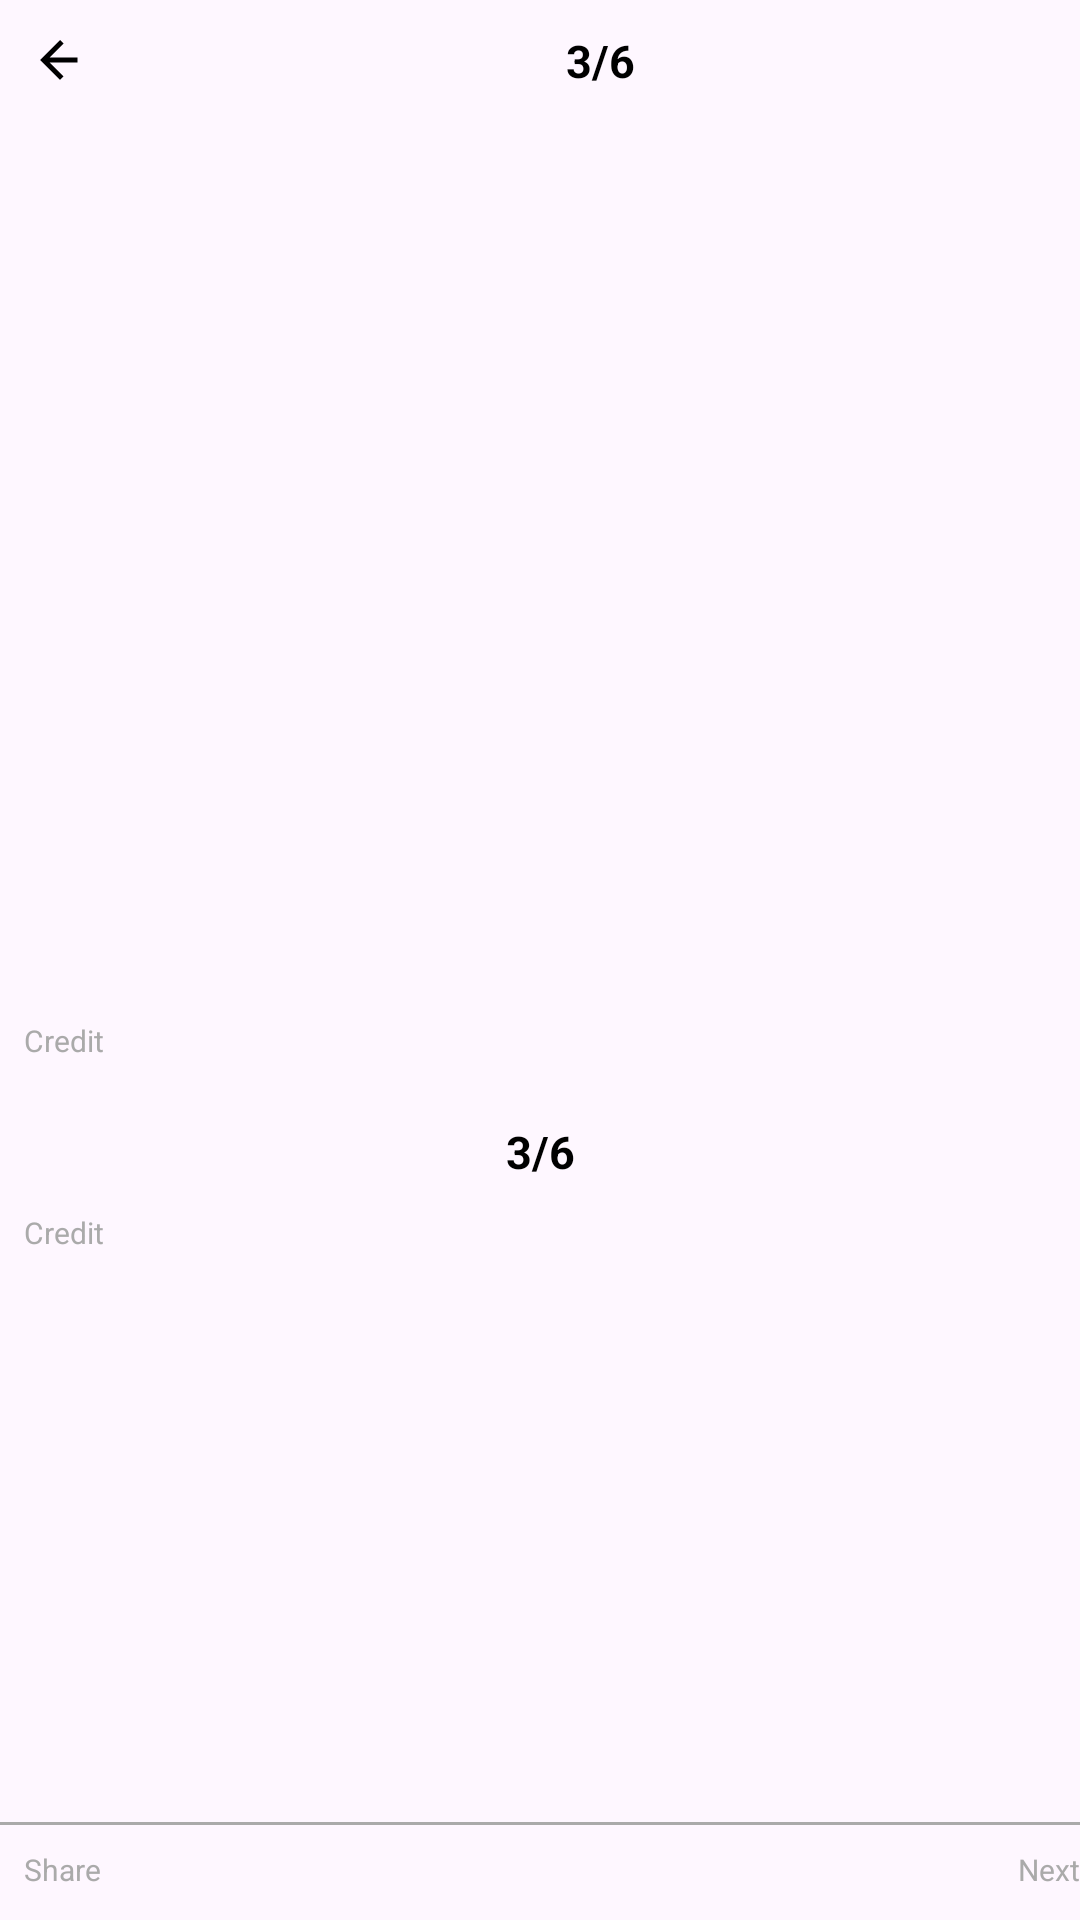

Screen size 1080px x 1920px. Icon name, then its center in pixels as [x,y]:
back: [59,60]
